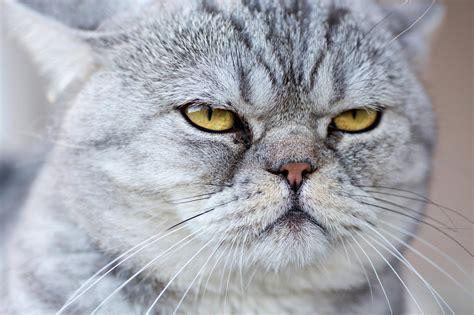cat: (1, 1, 445, 315)
